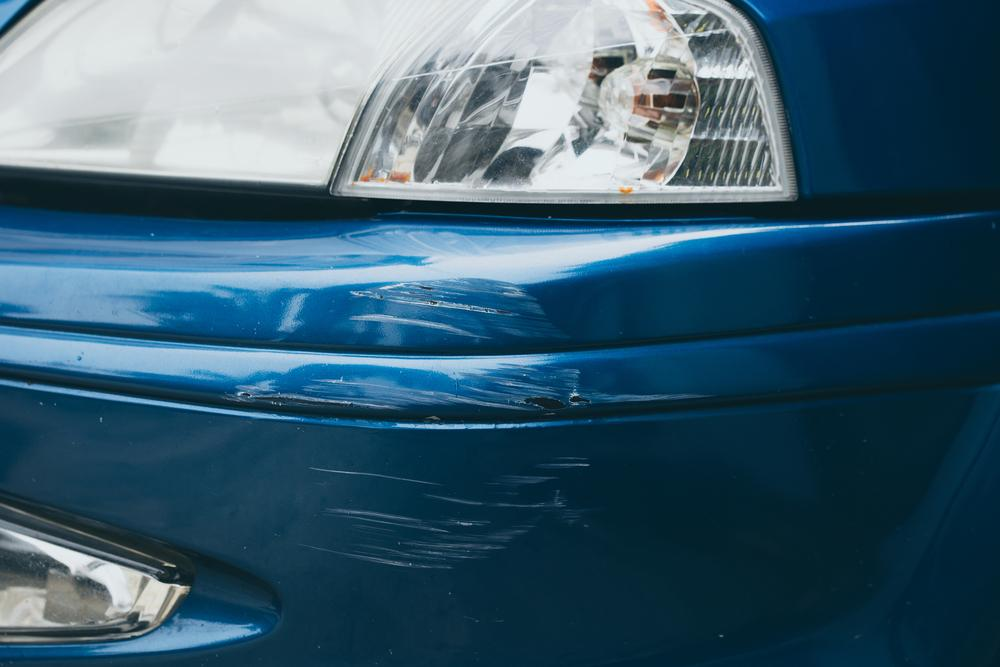scratch: (228, 274, 718, 570)
